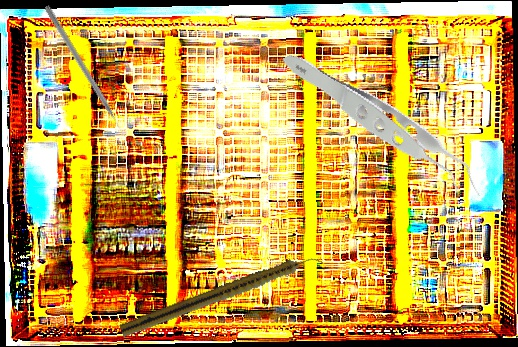Handpiece: (118, 248, 325, 342)
Pusher: (42, 4, 128, 140)
Tissue Forceps: (279, 5, 485, 251)
